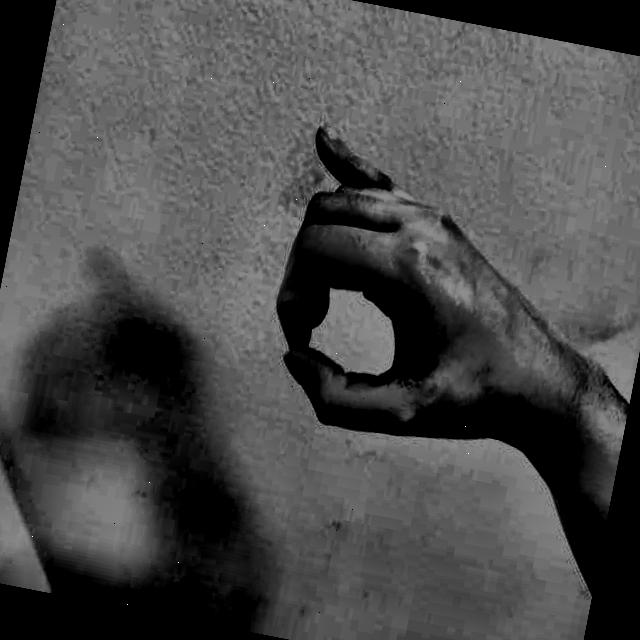Ou: (225, 89, 590, 495)
